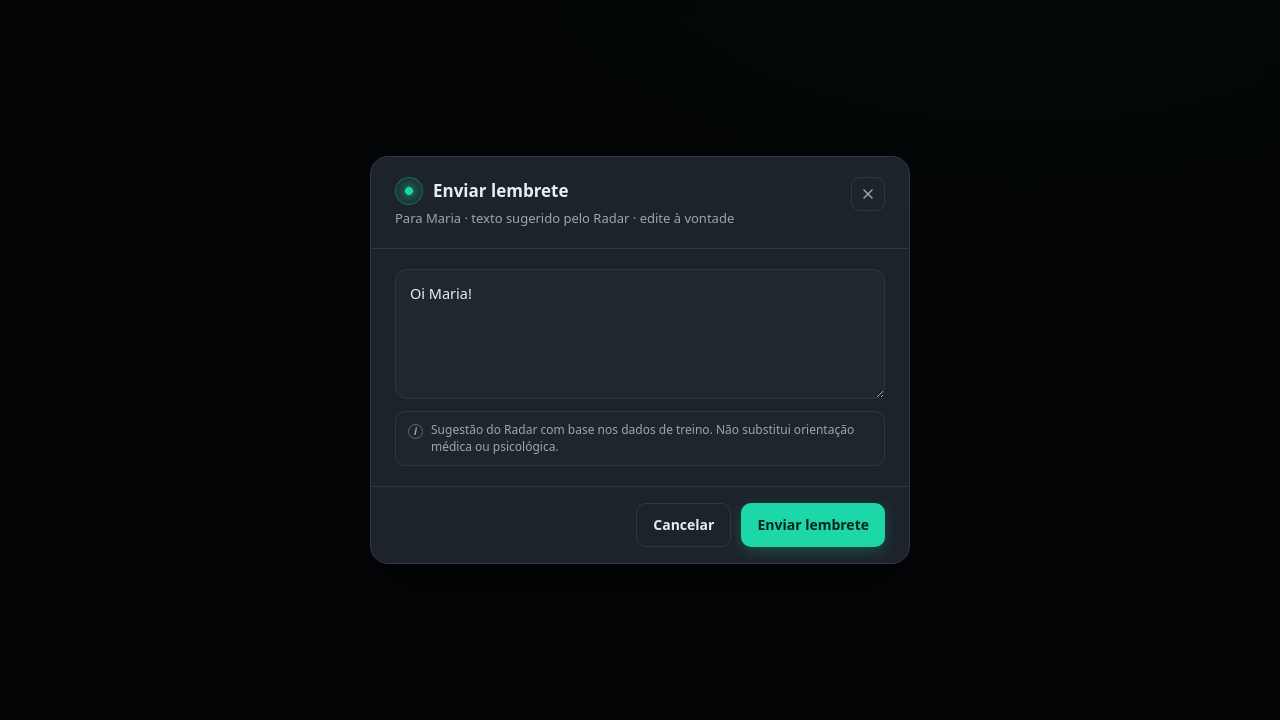
Test: ReminderModal › shows real delivery status after send
Click the button "Enviar lembrete" at [813, 525], box left=741, top=503, right=885, bottom=547
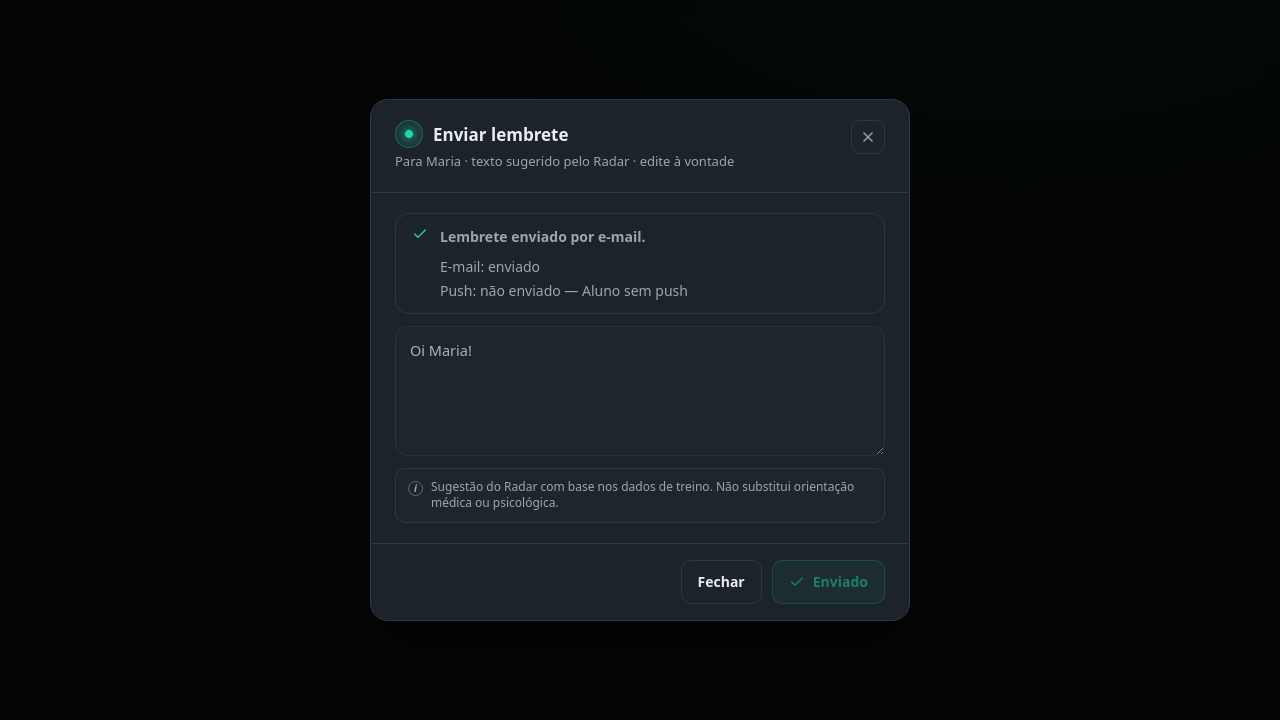
Check: the text "Lembrete enviado por e-mail." is shown, box left=440, top=227, right=646, bottom=246
Check: the list item "Push: não enviado — Aluno sem push" is shown, box left=440, top=281, right=688, bottom=300
